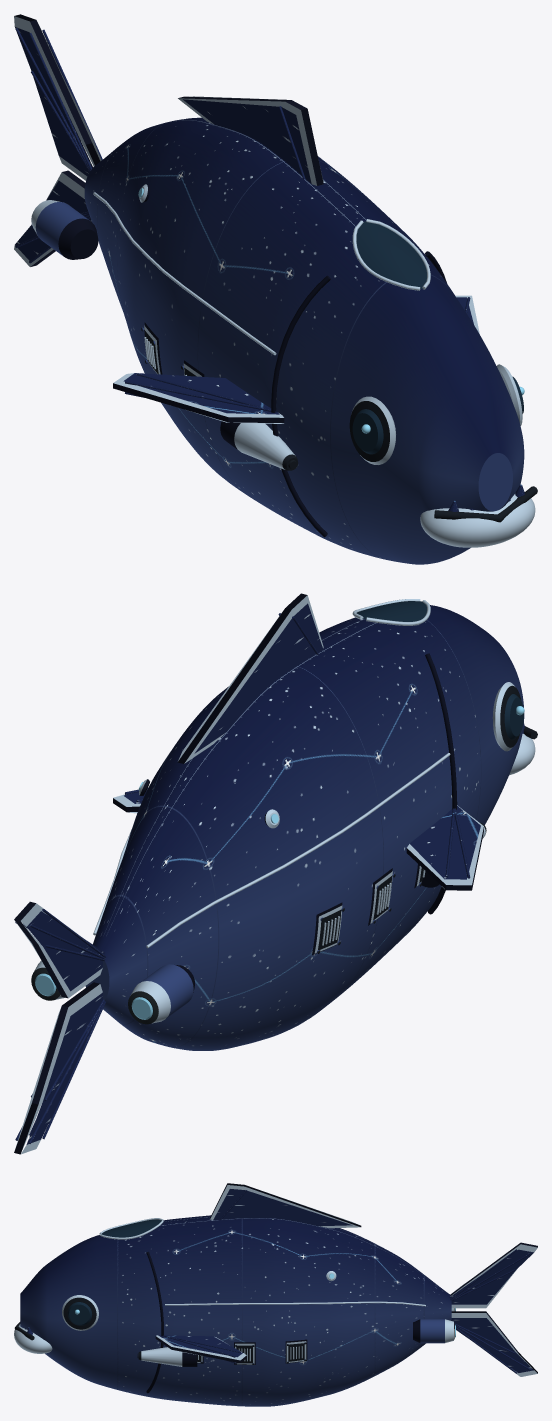
The picture shows the model from 3 angles, top to bottom: view 1: azimuth 30°, elevation 25°; view 2: azimuth 150°, elevation 25°; view 3: azimuth 270°, elevation 25°; orthographic projection. The views are drawn at different scales.
Parts seen in each view (by area): view 1: piranha_hull; view 2: piranha_hull; view 3: piranha_hull.
Boxes of the visible parts, x1,y1,x2,y2 form: piranha_hull: (14, 14, 537, 564); piranha_hull: (14, 593, 537, 1154); piranha_hull: (14, 1183, 537, 1406).
Size of the model in its own units: 6.42 by 6.94 by 15.
1 material, 1 textured.
